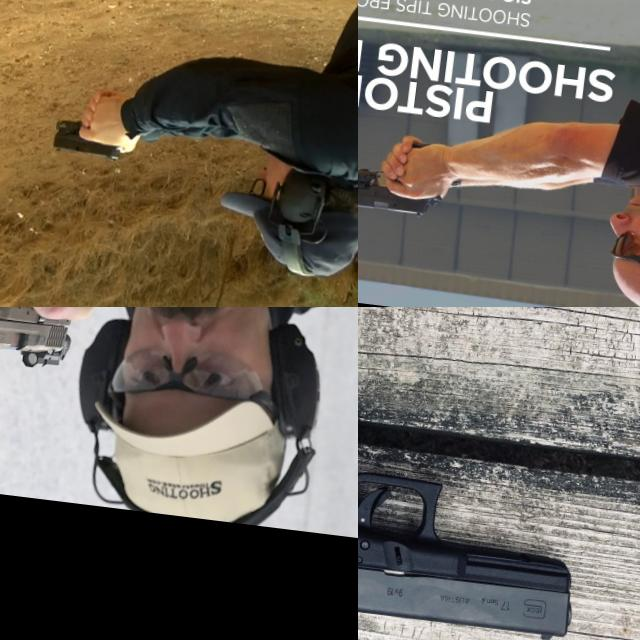handgun: (358, 324, 604, 640), (358, 159, 447, 219), (0, 307, 81, 372), (47, 102, 130, 164)
